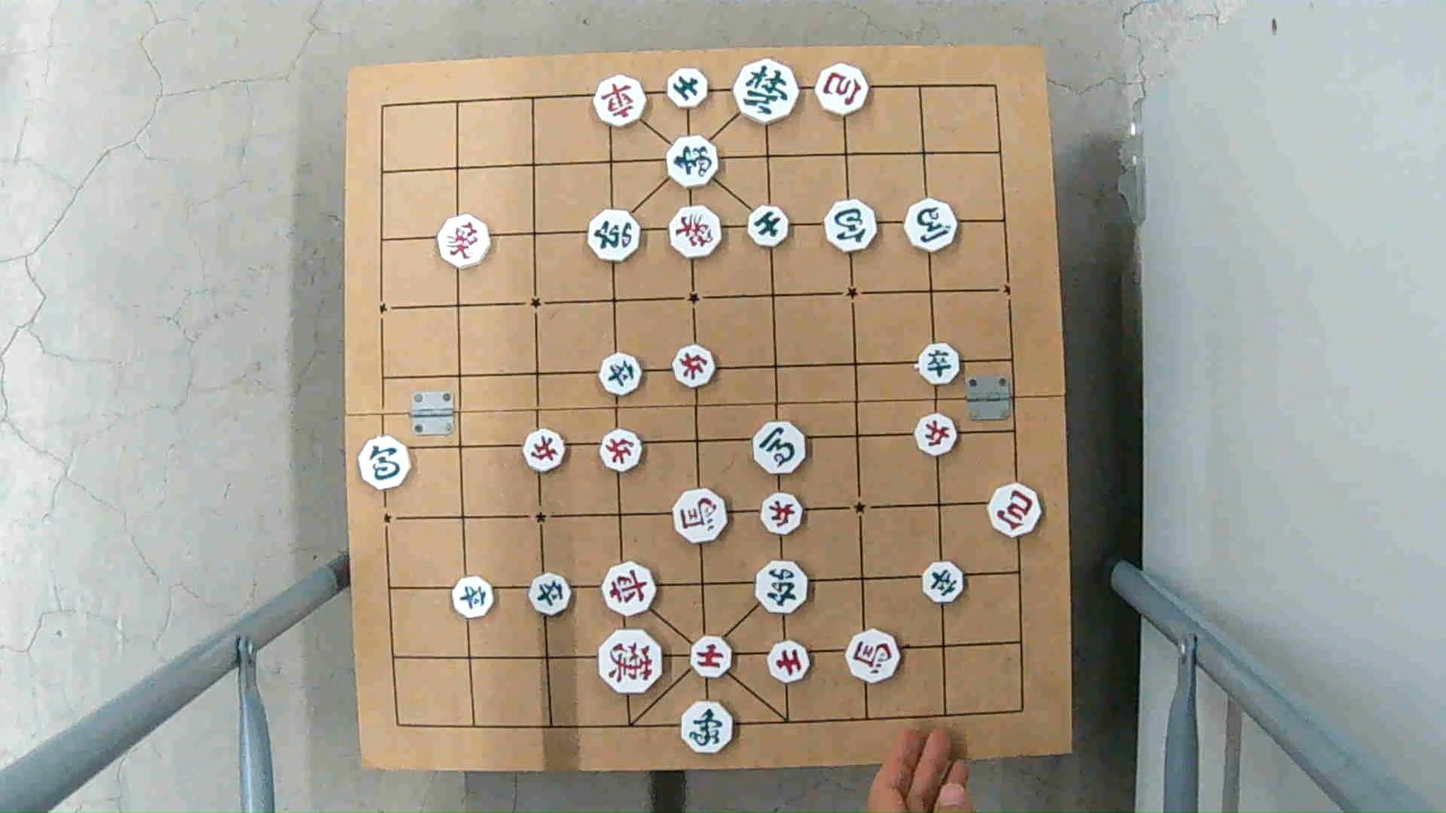cha_green: (753, 562, 809, 617), (587, 211, 643, 260)
cha_red: (601, 565, 661, 614), (593, 77, 648, 125)
jol_green: (526, 574, 575, 617), (915, 345, 963, 383), (450, 580, 499, 617), (599, 353, 642, 394), (922, 564, 968, 602)
jol_red: (596, 430, 646, 472), (521, 430, 571, 471), (670, 347, 718, 385), (759, 494, 806, 532), (913, 418, 960, 455)
ma_green: (753, 422, 807, 473), (903, 201, 959, 248)
ma_red: (670, 487, 728, 544), (843, 631, 901, 680)
po_green: (358, 438, 413, 486), (821, 201, 877, 248)
po_red: (811, 64, 870, 115), (986, 486, 1043, 534)
sa_green: (745, 207, 793, 249), (664, 67, 710, 105)
sa_red: (689, 635, 735, 678), (766, 644, 812, 683)
sang_green: (679, 702, 735, 751), (666, 137, 721, 184)
sang_red: (667, 204, 724, 257), (435, 217, 493, 265)
wang_green: (731, 60, 801, 125)
wang_red: (596, 633, 666, 691)
